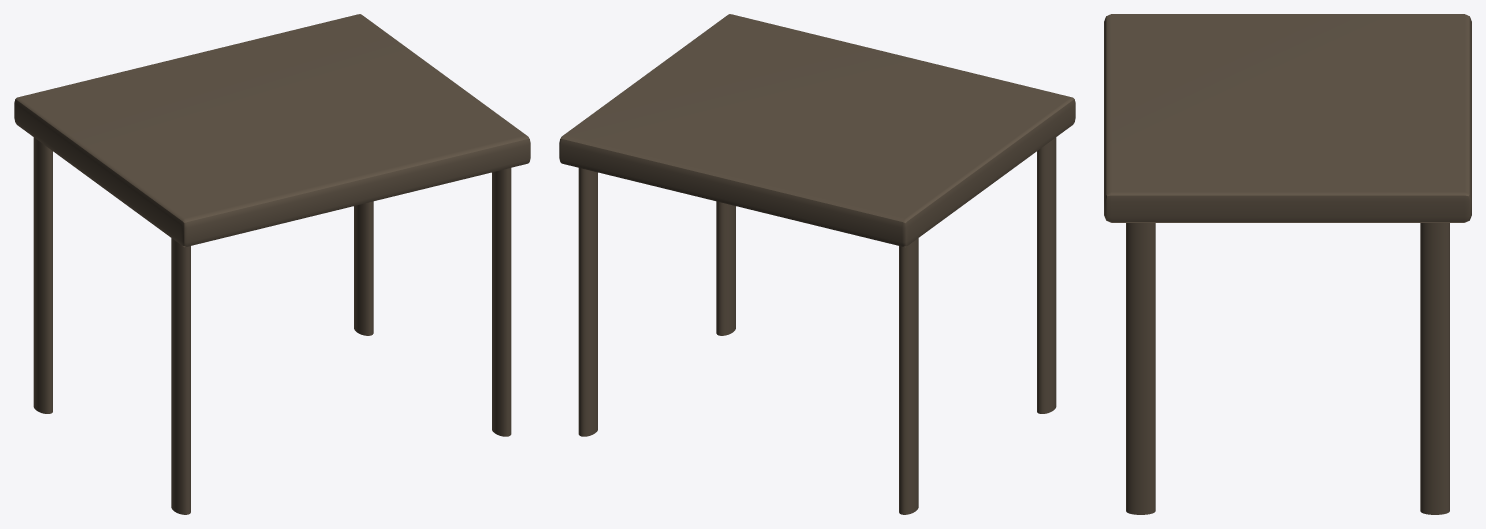
The model's file is SideTable.fbx.
The picture shows the model from 3 angles, left to right: view 1: azimuth 30°, elevation 25°; view 2: azimuth 150°, elevation 25°; view 3: azimuth 270°, elevation 25°; orthographic projection. The views are drawn at different scales.
Visible parts, largest first — view 1: Table1; view 2: Table1; view 3: Table1.
Boxes of the visible parts, <box> form: Table1: <box>14,14,530,514</box>; Table1: <box>559,14,1075,514</box>; Table1: <box>1104,14,1471,514</box>.
Bounding box in the file's own units: 57.78 × 48.2 × 49.48.
